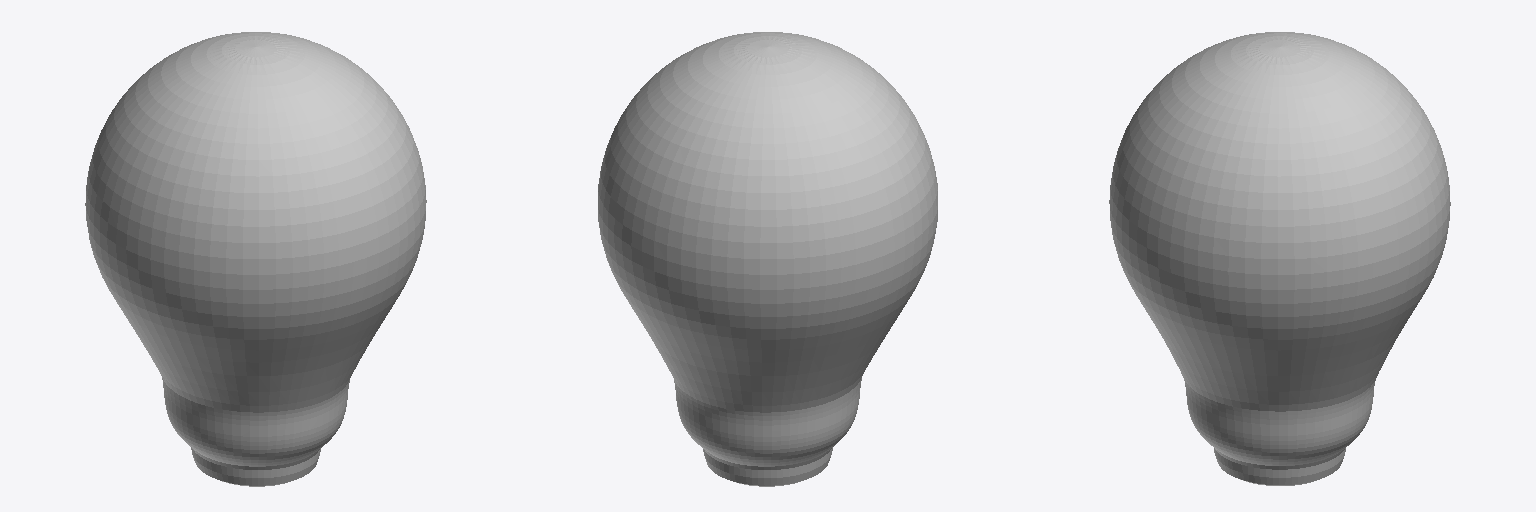
Rendered from Events-Bulb.obj.
3 views of the same model, side by side, from view 1: azimuth 30°, elevation 25°; view 2: azimuth 150°, elevation 25°; view 3: azimuth 270°, elevation 25° (orthographic).
Visible parts, largest first — view 1: Events-Bulb_foco_Mesh.000; view 2: Events-Bulb_foco_Mesh.000; view 3: Events-Bulb_foco_Mesh.000.
Part boxes in pixels (left/top/right/bottom): Events-Bulb_foco_Mesh.000: left=85, top=32, right=426, bottom=486; Events-Bulb_foco_Mesh.000: left=598, top=32, right=937, bottom=486; Events-Bulb_foco_Mesh.000: left=1109, top=32, right=1450, bottom=485.
Size of the model in its own units: 0.2504 by 0.3386 by 0.2504.